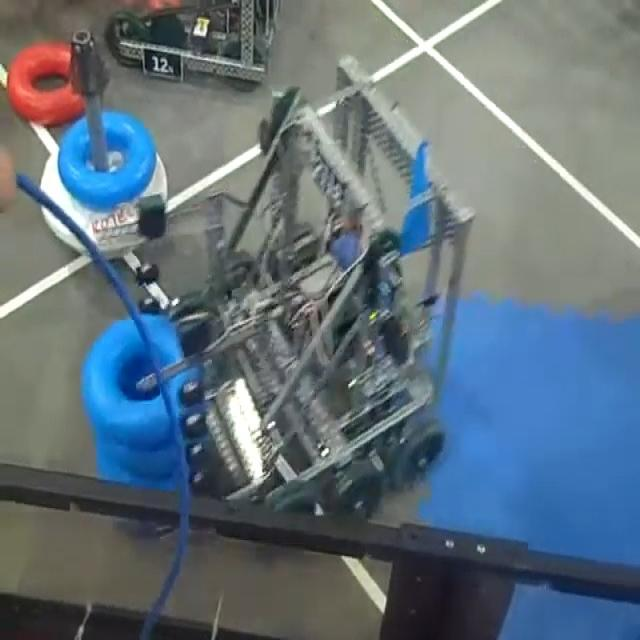Blue-Ring: (82, 320, 171, 448), (60, 110, 156, 209), (96, 436, 176, 478), (96, 450, 174, 489), (144, 313, 182, 366)
Red-Ring: (8, 42, 85, 126)
